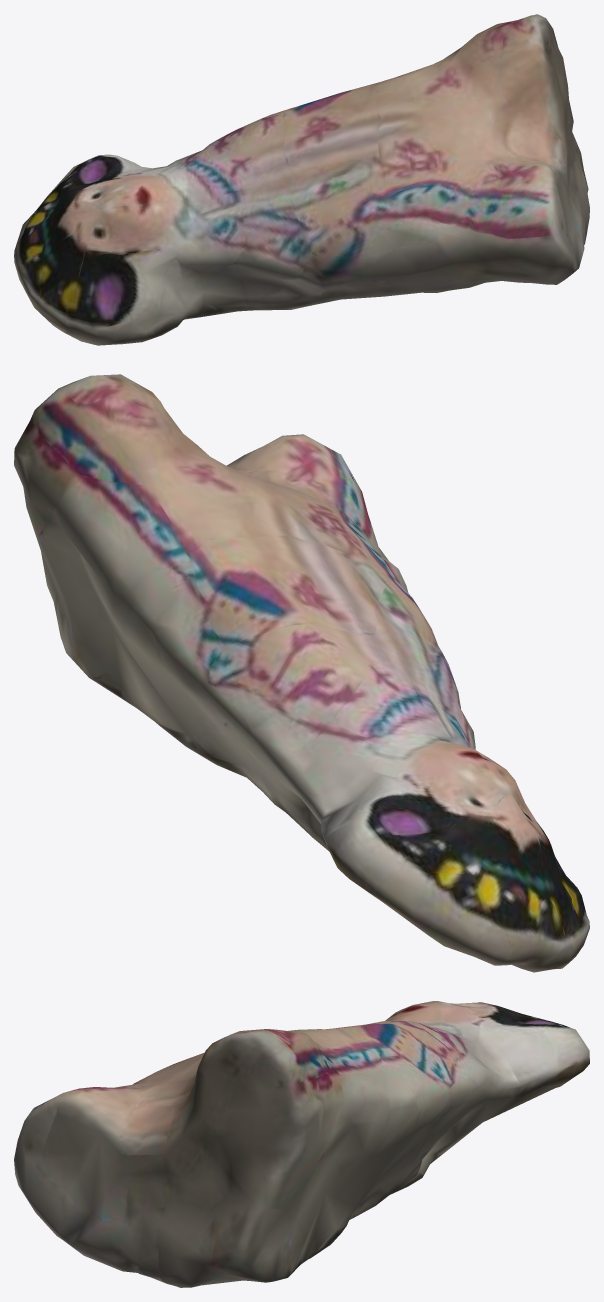
Rendered from hall.glb.
3 renders of one model, top to bottom at view 1: azimuth 30°, elevation 25°; view 2: azimuth 150°, elevation 25°; view 3: azimuth 270°, elevation 25°, orthographic. The views are drawn at different scales.
Size of the model in its own units: 0.6007 by 0.3422 by 0.5282.
Materials: 1 (1 with a texture image).
